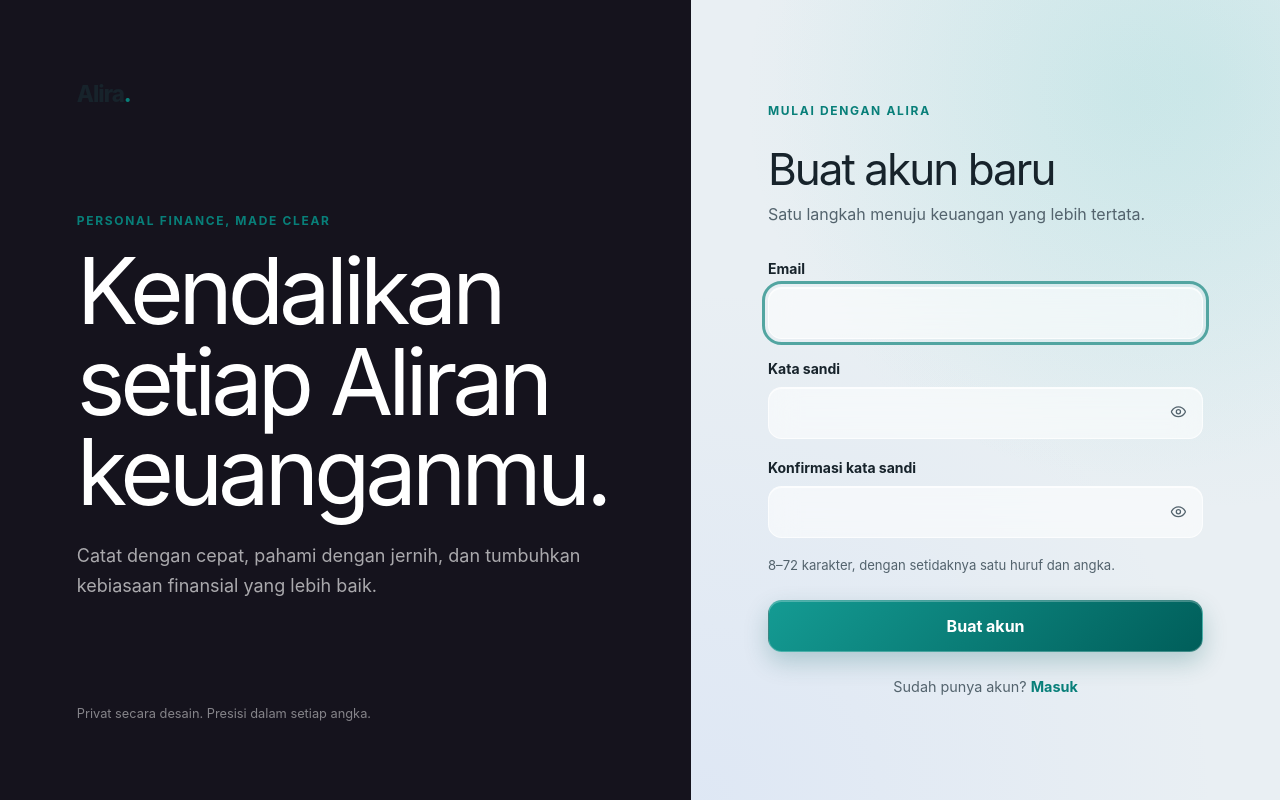
Test: authentication flows › shows a friendly duplicate email error
Expected: the heading "Buat akun baru" is shown, [768,142,1054,196]
Step 1. Type "used@example.com" into the field labelled "Email" → (986, 313), box [768,287,1203,339]
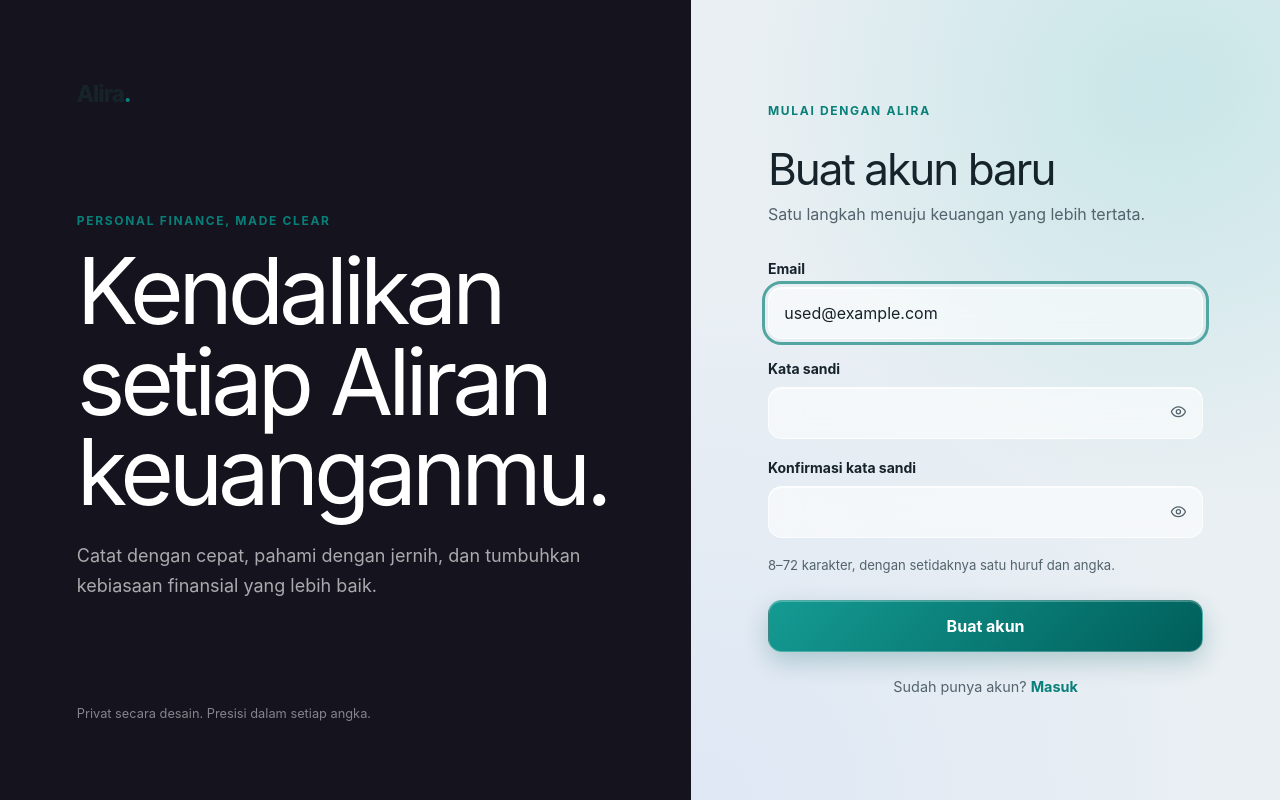
Step 2. Type "Password1" into the password field labelled "Kata sandi" → (986, 413), box [768,387,1203,439]
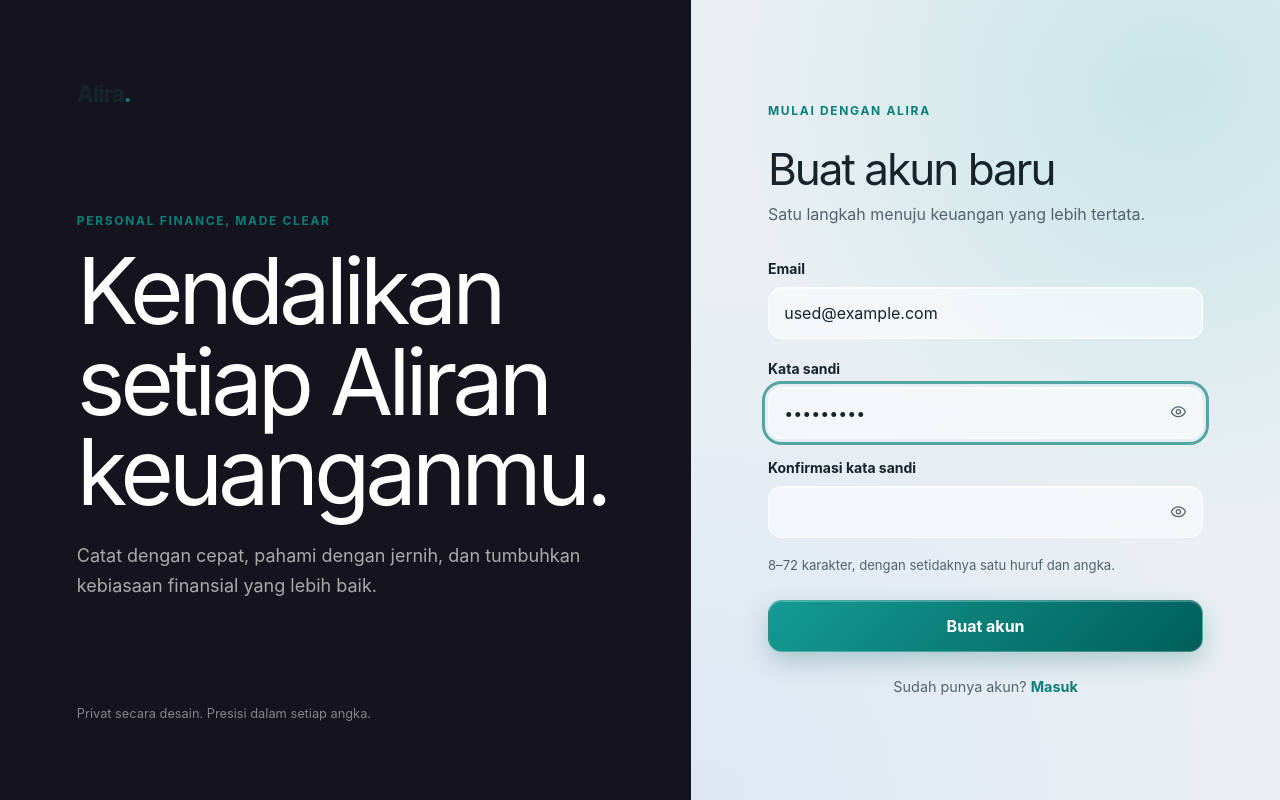
Step 3. Type "Password1" into the password field labelled "Konfirmasi kata sandi" → (986, 512), box [768,486,1203,538]
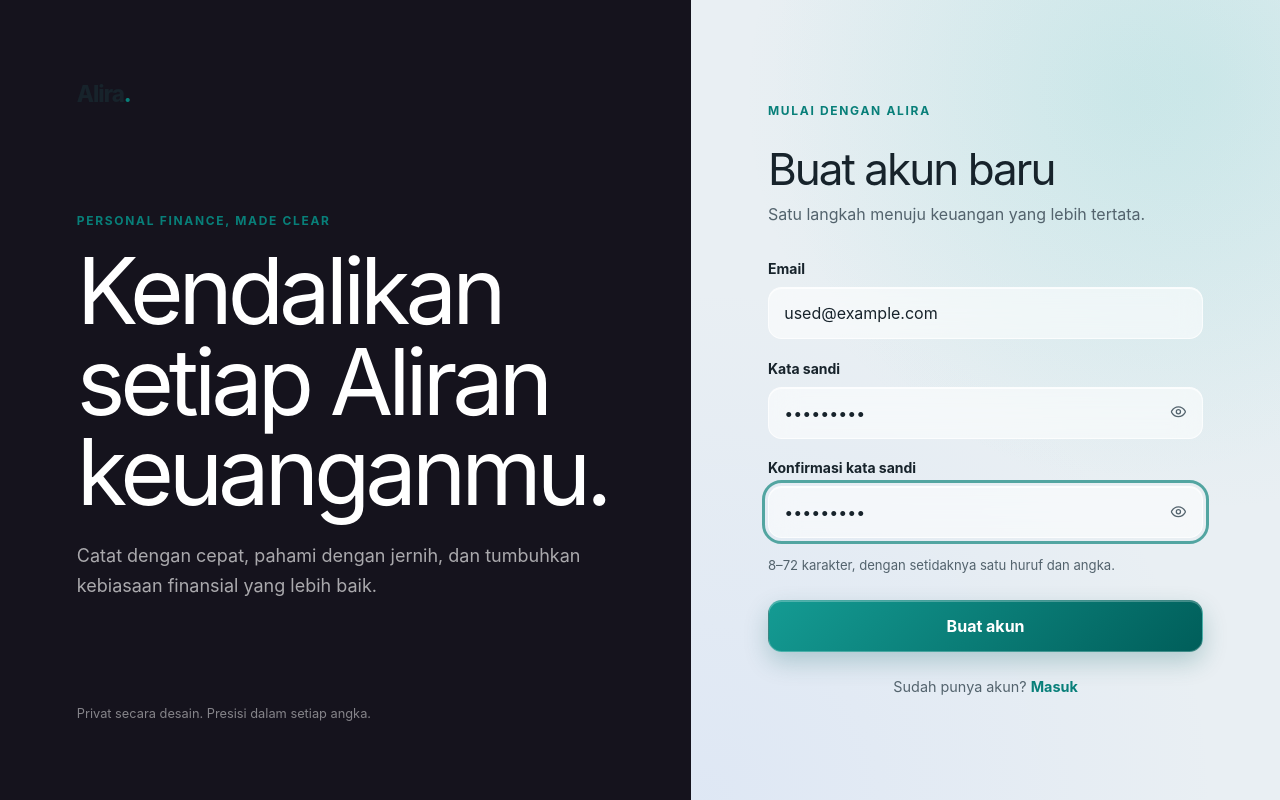
Step 4. Click the button "Buat akun" → (986, 626), box [768,600,1203,652]
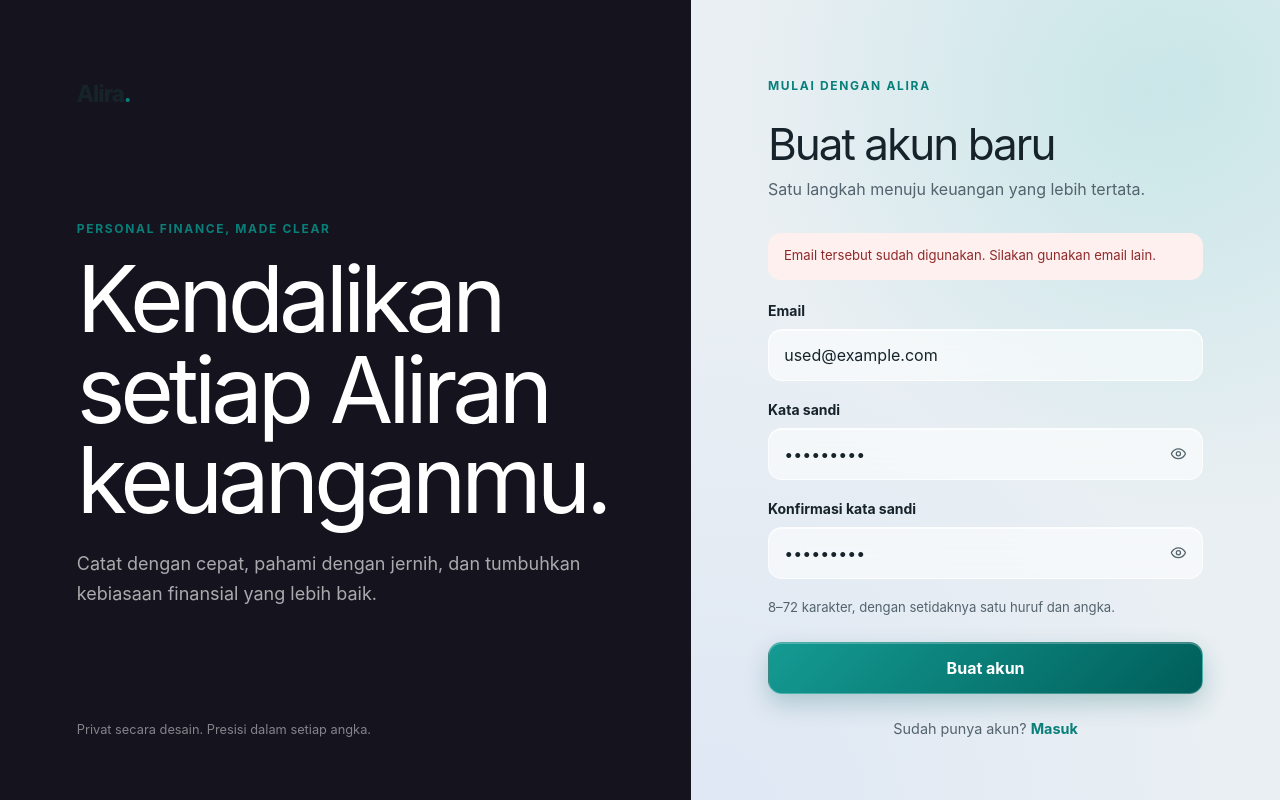
Expected: the message shows "sudah digunakan", [784,247,1156,263]
